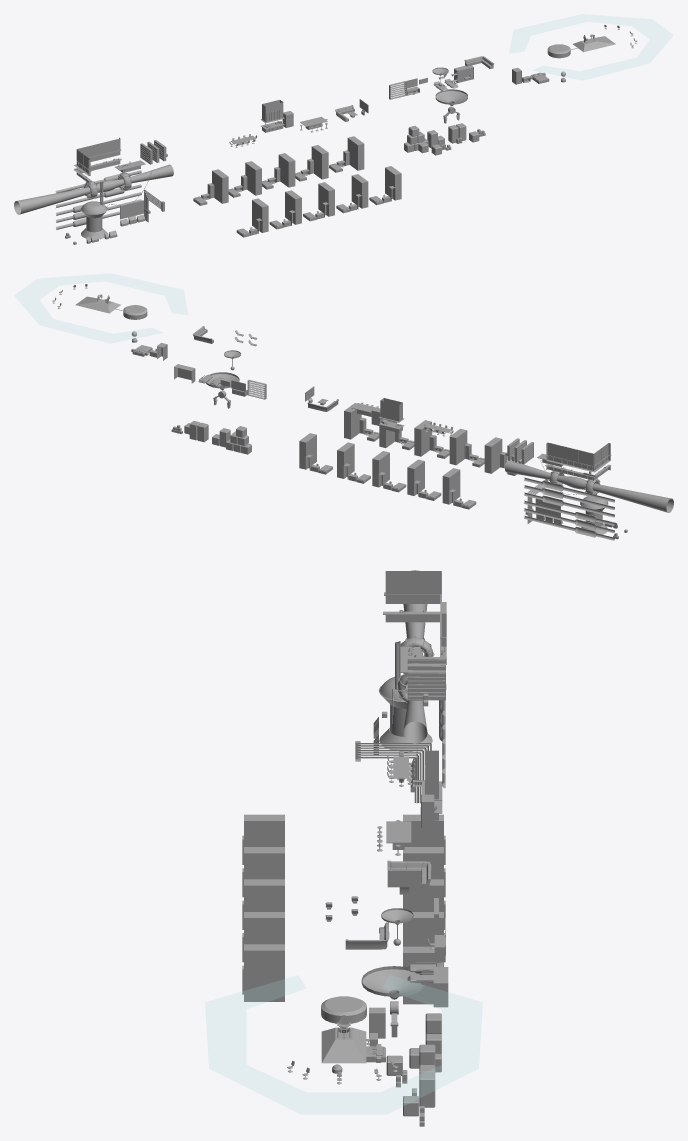
File: Ship_Dressing.fbx
The picture shows the model from 3 angles, top to bottom: view 1: azimuth 30°, elevation 25°; view 2: azimuth 150°, elevation 25°; view 3: azimuth 270°, elevation 25°; orthographic projection. The views are drawn at different scales.
Parts seen in each view (by area): view 1: Ship_Dressing; view 2: Ship_Dressing; view 3: Ship_Dressing.
Boxes of the visible parts, x1=… form: Ship_Dressing: x1=14, y1=14, x2=672, y2=244; Ship_Dressing: x1=14, y1=274, x2=673, y2=540; Ship_Dressing: x1=206, y1=570, x2=481, y2=1126.
Bounding box in the file's own units: 28338 × 4240 × 5421.
